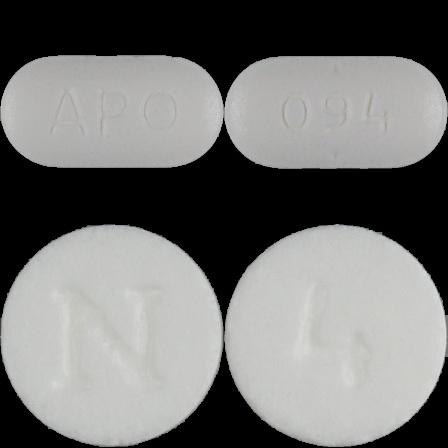68788-9675: (0, 0, 224, 224)
